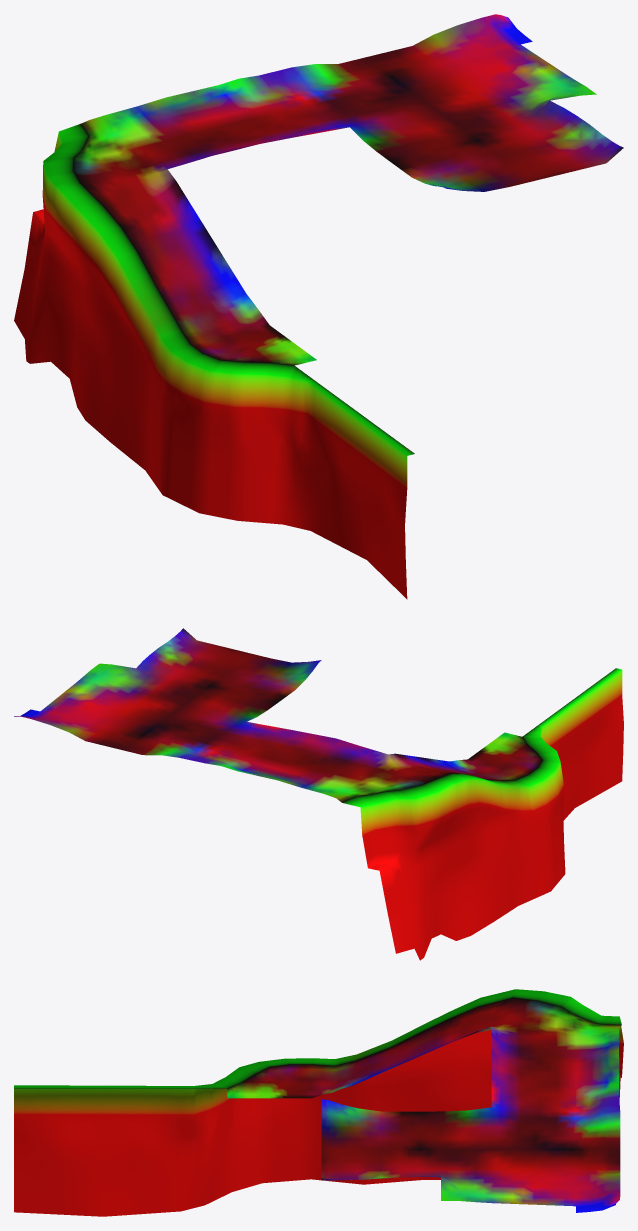
The model's file is Level_01_Terrain_C.fbx.
The picture shows the model from 3 angles, top to bottom: view 1: azimuth 30°, elevation 25°; view 2: azimuth 150°, elevation 25°; view 3: azimuth 270°, elevation 25°; orthographic projection. The views are drawn at different scales.
Parts seen in each view (by area): view 1: Geometry_Level_01_Terrain_C_LOD00; view 2: Geometry_Level_01_Terrain_C_LOD00; view 3: Geometry_Level_01_Terrain_C_LOD00.
Part boxes in pixels (<box>): Geometry_Level_01_Terrain_C_LOD00: <box>14,14,623,599</box>; Geometry_Level_01_Terrain_C_LOD00: <box>14,628,623,960</box>; Geometry_Level_01_Terrain_C_LOD00: <box>14,989,623,1216</box>.
Size of the model in its own units: 4413 by 1876 by 5065.
